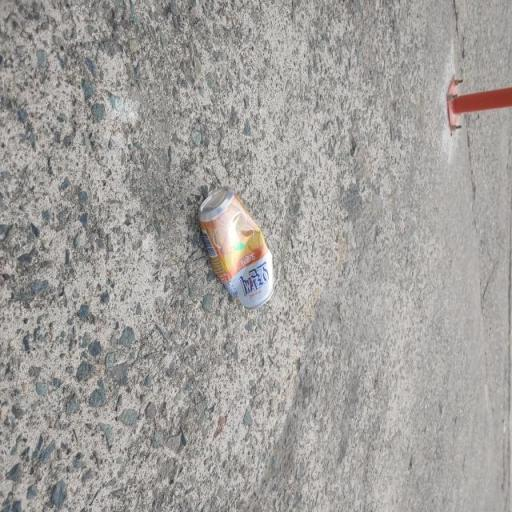metal: (183, 168, 297, 336)
